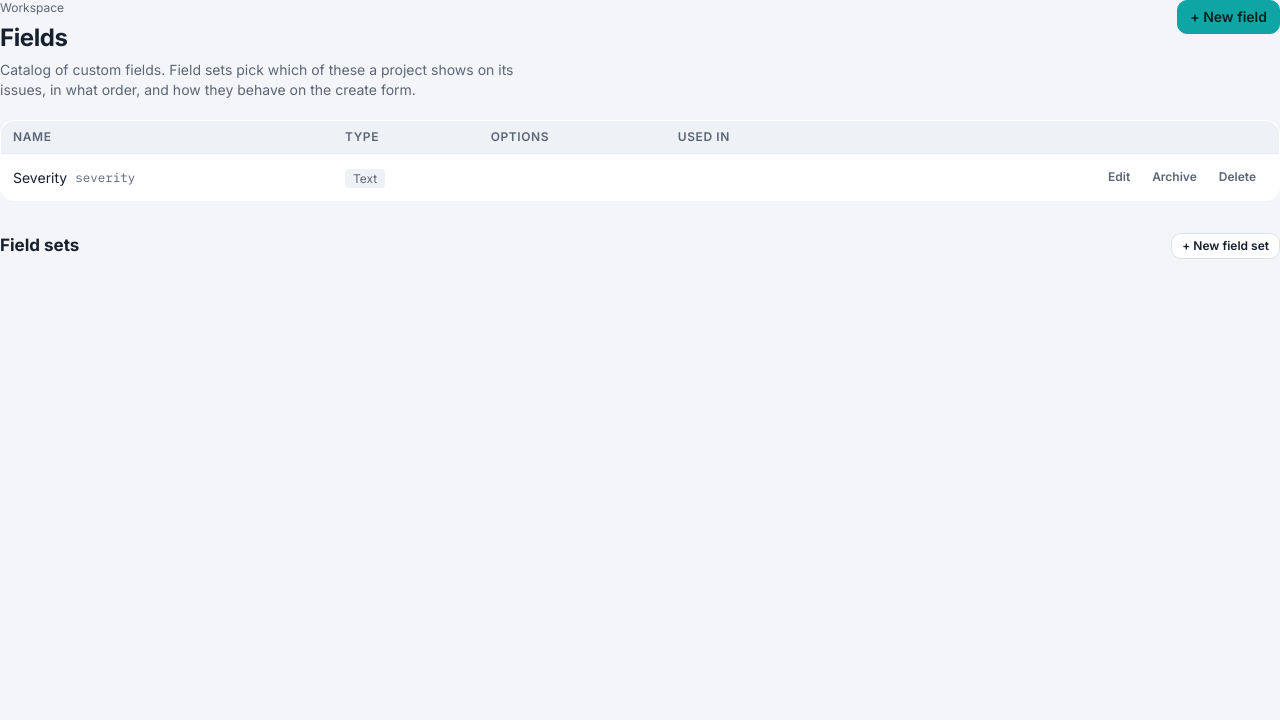
it: AdminFieldsPage — the rename affordance in the editor › keeps the key fixed on a field that is NOT shadowed
Click the button "Edit": (1119, 177) 1097,164 -> 1141,190
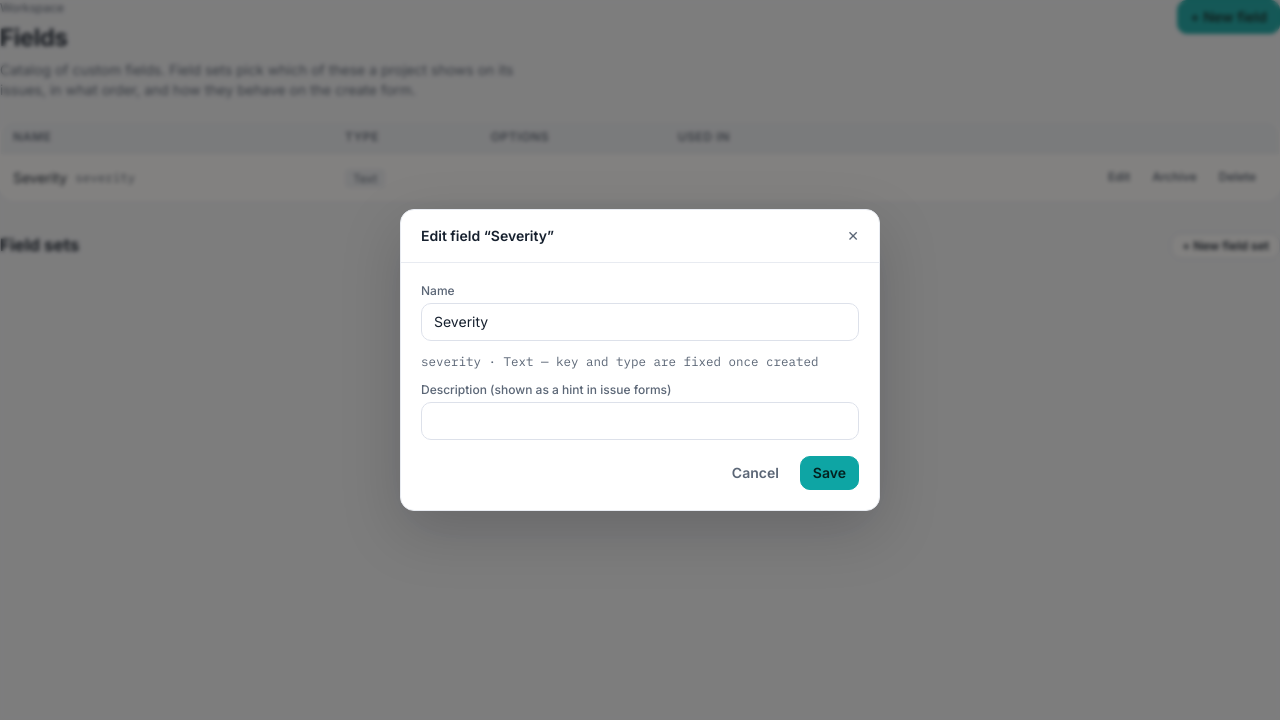
Expected: the dialog shows "severity · Text — key and type are fixed once created", 400,209 -> 880,511
